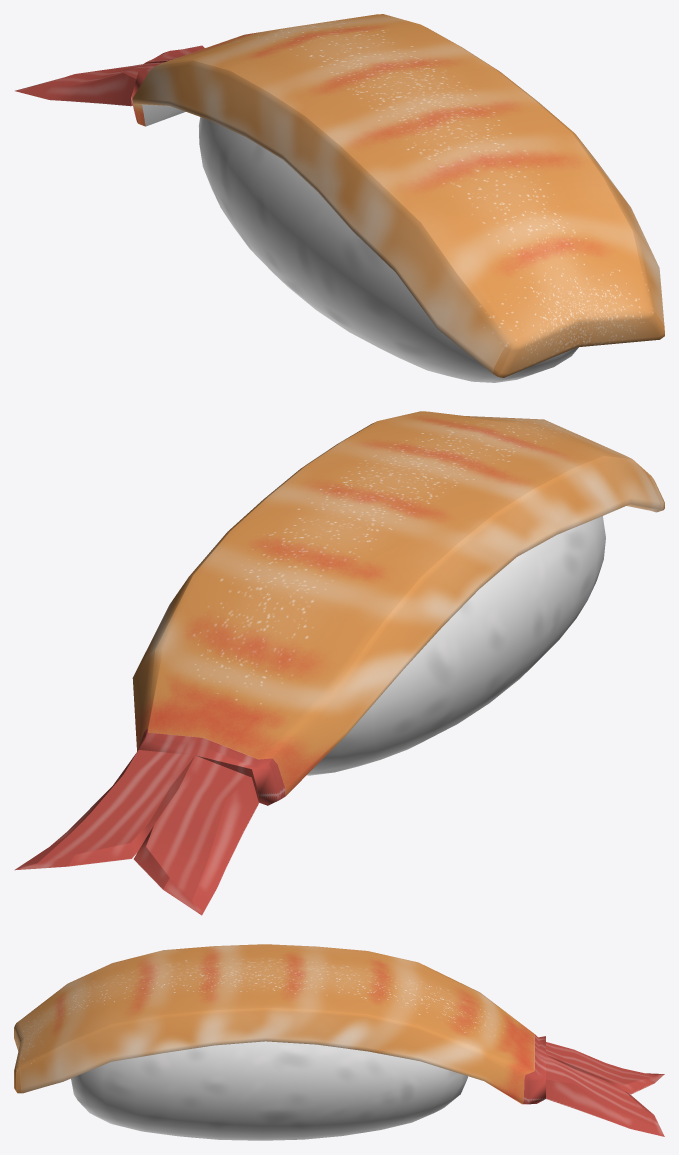
The model's file is sushi_shrimp.fbx.
3 views of the same model, one above another, from view 1: azimuth 30°, elevation 25°; view 2: azimuth 150°, elevation 25°; view 3: azimuth 270°, elevation 25° (orthographic). The views are drawn at different scales.
Parts seen in each view (by area): view 1: polySurface9; view 2: polySurface9; view 3: polySurface9.
Boxes of the visible parts, <box> form: polySurface9: <box>15,14,664,382</box>; polySurface9: <box>14,411,664,915</box>; polySurface9: <box>14,944,664,1140</box>.
Bounding box in the file's own units: 0.8832 × 0.7989 × 2.94.
